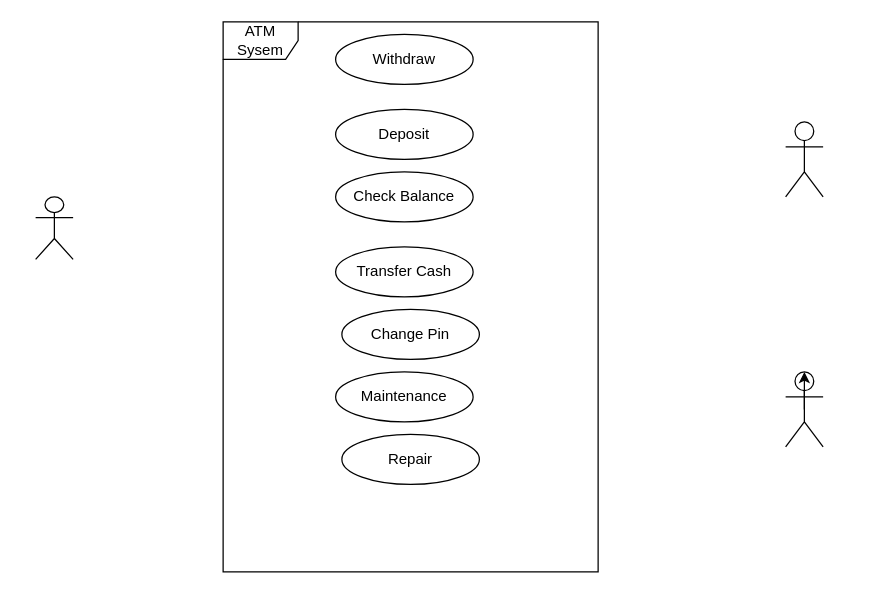
Image size: 878x594. Some labels were removed from this diagram. Each missing label, with the centre of its shape:
"ATM Technician" goes at point 803,409.
"Bank" goes at point 803,159.
"Customer" goes at point 53,227.
